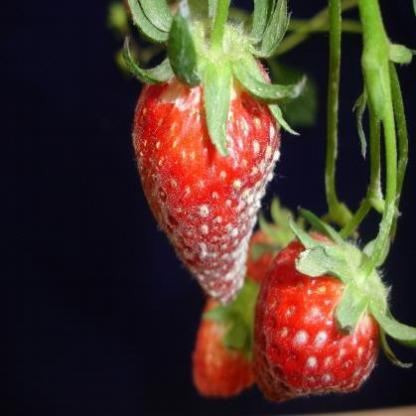Strawberry_Powdery_Mildew_Fruit: (132, 20, 282, 306), (264, 235, 384, 396)
